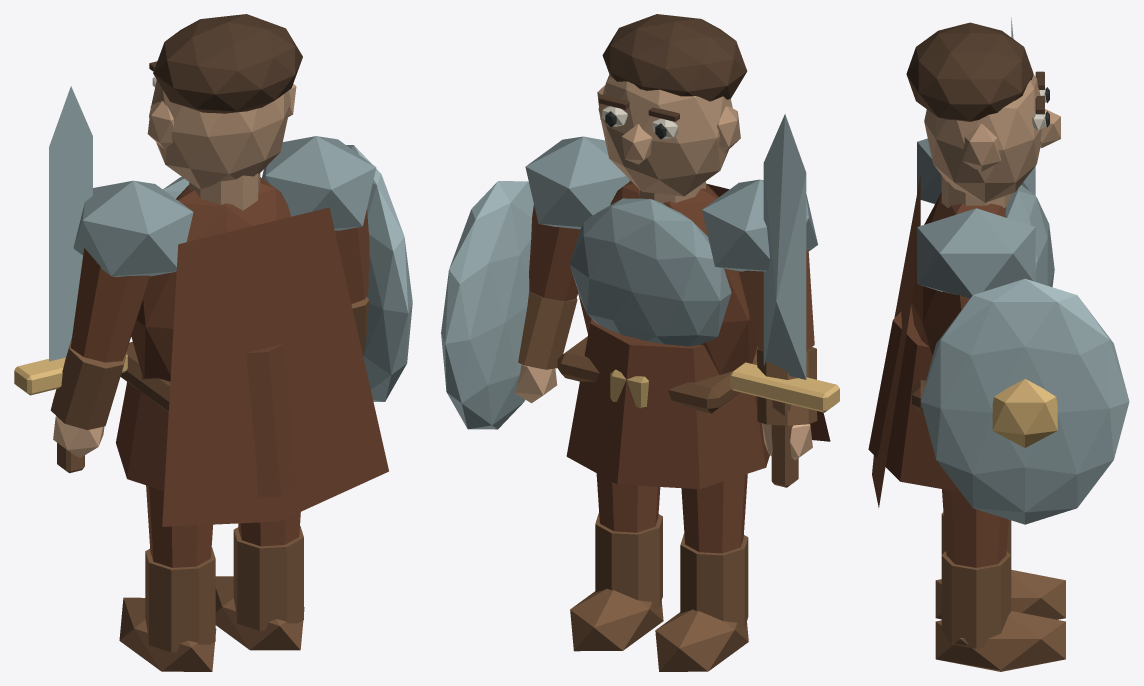
Rendered from bandit.glb.
The picture shows the model from 3 angles, left to right: view 1: azimuth 30°, elevation 25°; view 2: azimuth 150°, elevation 25°; view 3: azimuth 270°, elevation 25°; orthographic projection. The views are drawn at different scales.
Visible parts, largest first — view 1: Body, Sleeve.001, Trouser.001, Sleeve, Trouser; view 2: Body, Sleeve, Sleeve.001, Trouser.001, Trouser; view 3: Body, Sleeve, Trouser, Trouser.001.
Part boxes in pixels (left/top/right/bottom): Body: left=73, top=14, right=388, bottom=526; Sleeve.001: left=14, top=86, right=150, bottom=473; Trouser.001: left=119, top=485, right=216, bottom=671; Sleeve: left=335, top=145, right=412, bottom=401; Trouser: left=215, top=512, right=304, bottom=650; Body: left=525, top=14, right=830, bottom=489; Sleeve: left=441, top=181, right=580, bottom=429; Sleeve.001: left=730, top=114, right=839, bottom=487; Trouser.001: left=655, top=474, right=748, bottom=671; Trouser: left=570, top=473, right=663, bottom=651; Body: left=868, top=22, right=1060, bottom=507; Sleeve: left=920, top=278, right=1129, bottom=524; Trouser: left=935, top=489, right=1065, bottom=671; Trouser.001: left=935, top=512, right=1065, bottom=619.
Size of the model in its own units: 1.2 by 1.96 by 0.75.
